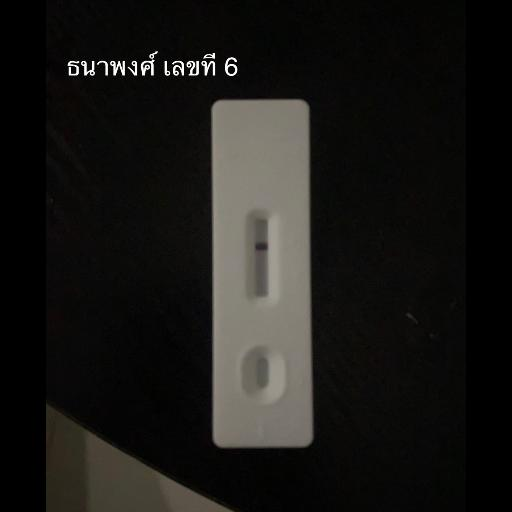Neg: (208, 95, 310, 445)
